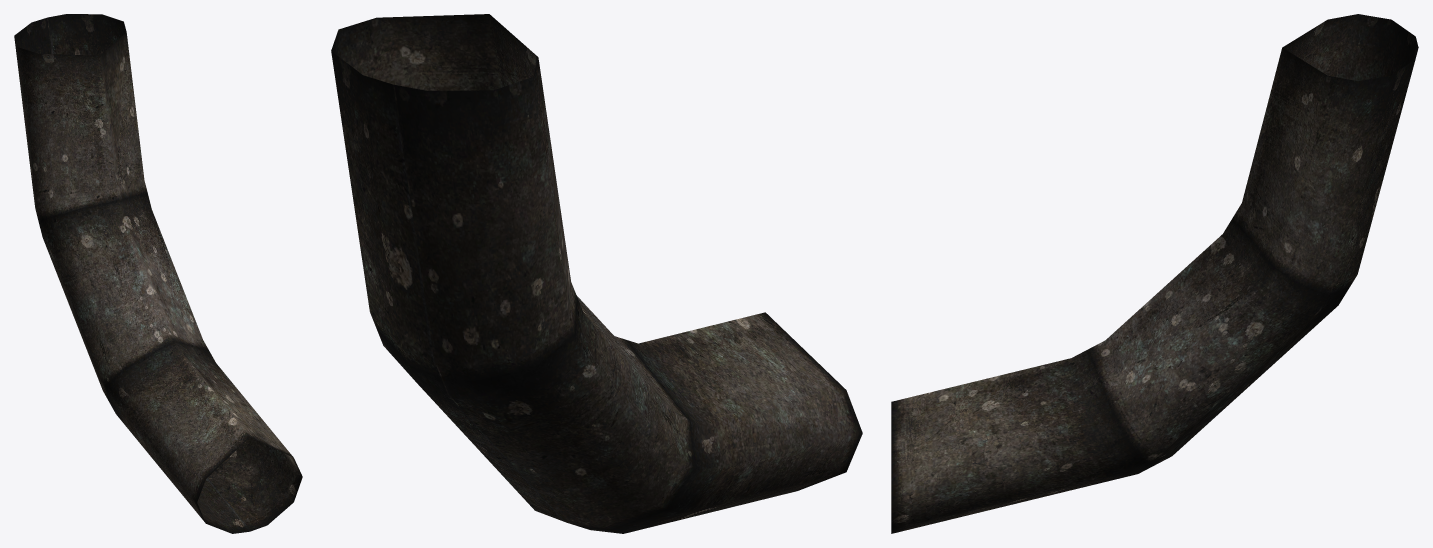
The model's file is large_90_up.dae.
3 renders of one model, left to right at view 1: azimuth 30°, elevation 25°; view 2: azimuth 150°, elevation 25°; view 3: azimuth 270°, elevation 25°, orthographic. The views are drawn at different scales.
Visible parts, largest first — view 1: tentacle_large_90_up; view 2: tentacle_large_90_up; view 3: tentacle_large_90_up.
Part boxes in pixels (x1,y1,x2,y2): tentacle_large_90_up: (14, 14, 302, 533); tentacle_large_90_up: (331, 14, 862, 533); tentacle_large_90_up: (891, 14, 1418, 533).
Bounding box in the file's own units: 0.52 × 1.72 × 1.72.
